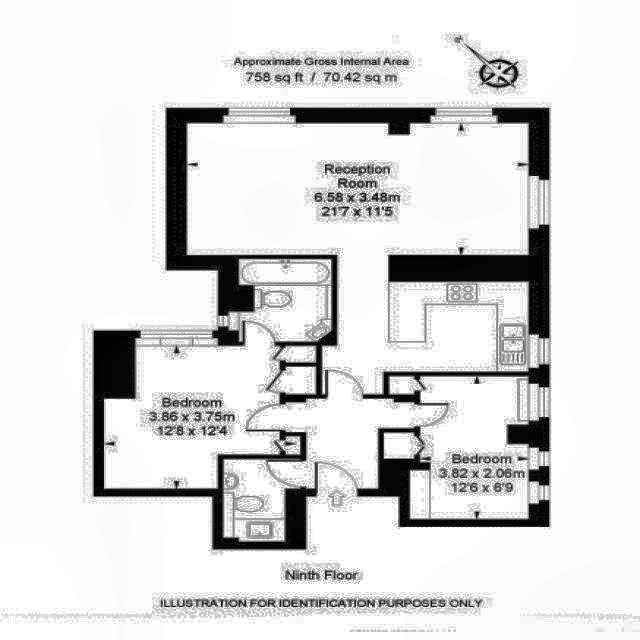room: (187, 122, 529, 255), (104, 337, 316, 489), (322, 256, 529, 395), (383, 375, 530, 520), (286, 399, 414, 488), (228, 259, 333, 343), (223, 459, 300, 542)
